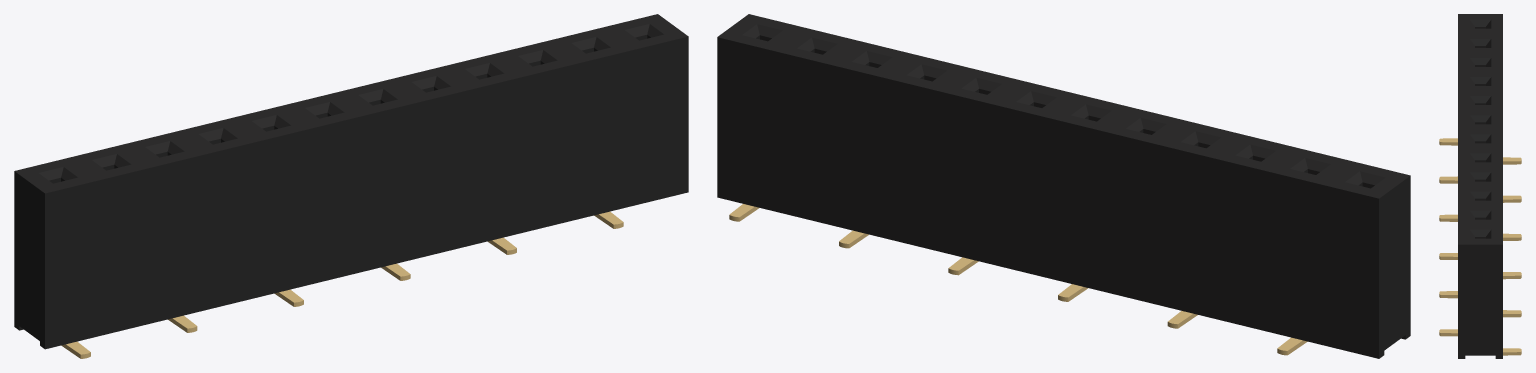
The picture shows the model from 3 angles, left to right: view 1: azimuth 30°, elevation 25°; view 2: azimuth 150°, elevation 25°; view 3: azimuth 270°, elevation 25°; orthographic projection. The views are drawn at different scales.
Visible parts, largest first — view 1: =>[0:1:1:3]; view 2: =>[0:1:1:3]; view 3: =>[0:1:1:3].
Part boxes in pixels (x1,y1,x2,y2): =>[0:1:1:3]: (14, 14, 688, 358); =>[0:1:1:3]: (717, 14, 1410, 358); =>[0:1:1:3]: (1439, 14, 1521, 358).
Size of the model in its own units: 0.0307 by 0.0074 by 0.00464.
